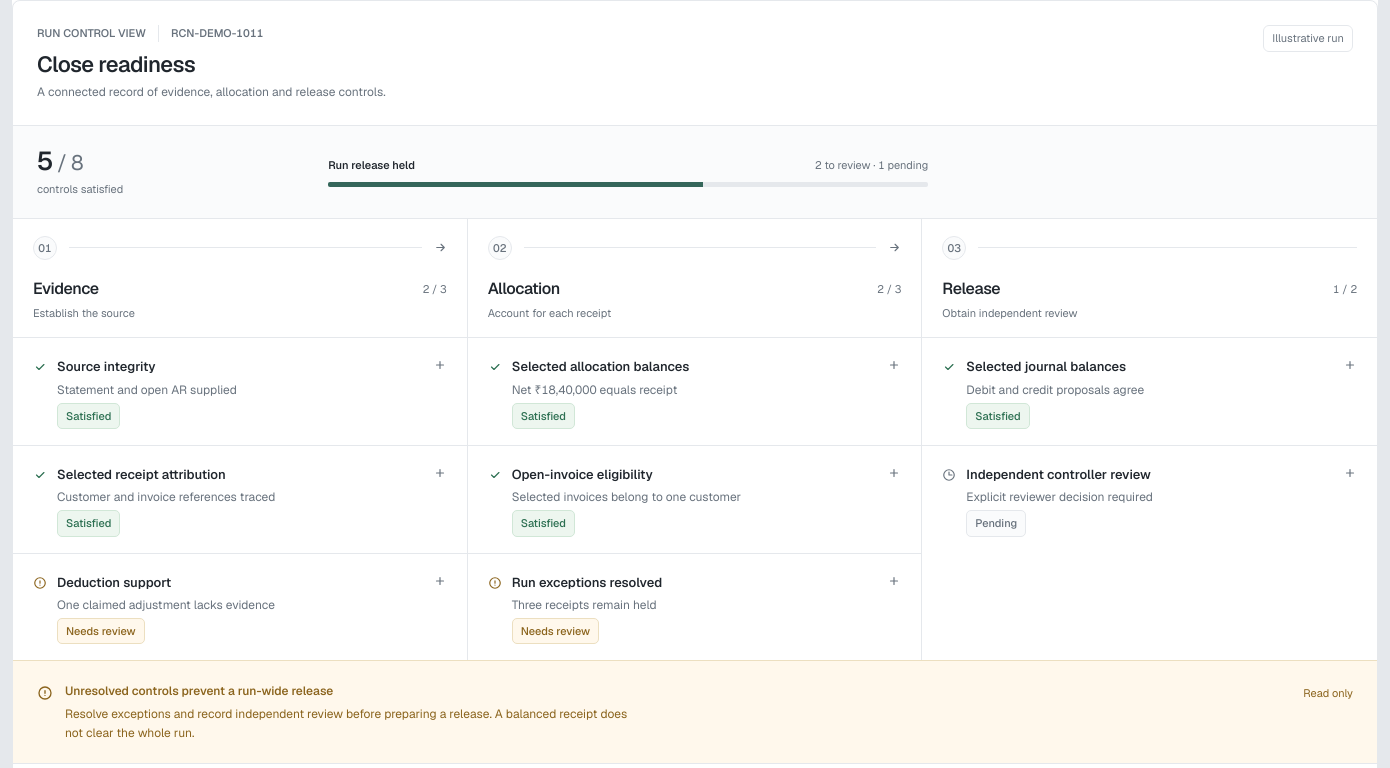
Scenario: Figma icons on standalone interface surfaces › changes the Figma disclosure icon without changing the control label
The width and height of the screenshot is (1390, 768).
Click the button "Run exceptions resolved" at (587, 582), box left=468, top=554, right=921, bottom=660
(page scrolled)
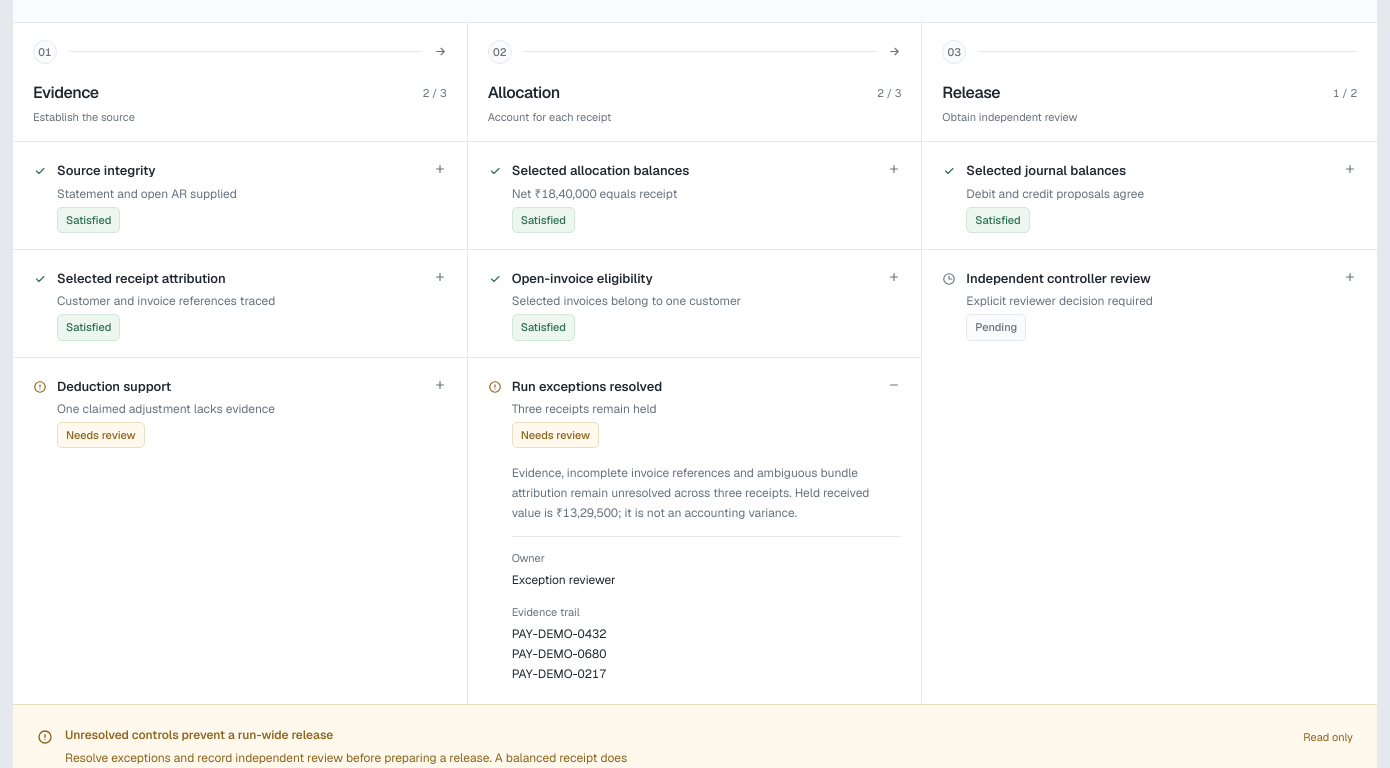
expect the button "Run exceptions resolved" is expanded: met, box left=468, top=358, right=921, bottom=464
